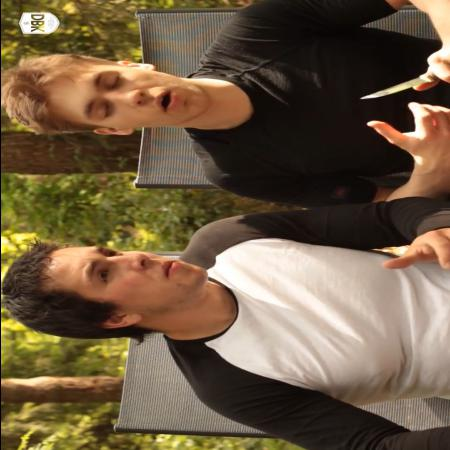long weapon: (353, 54, 449, 102)
